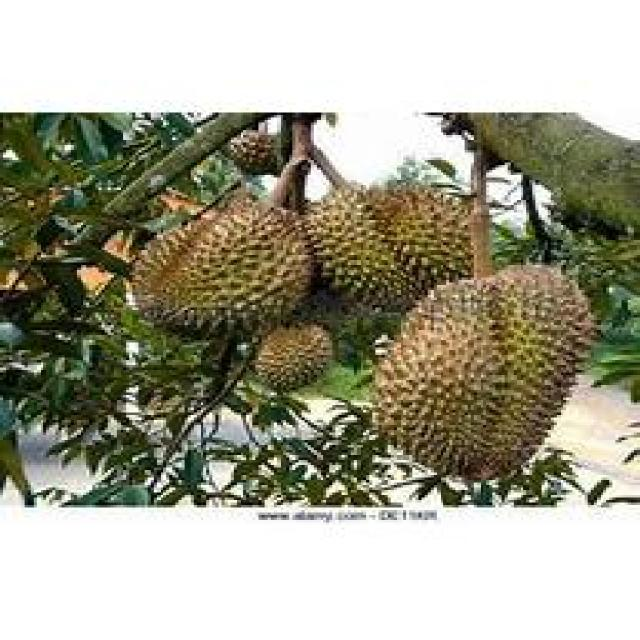fruit: (348, 235, 615, 493), (111, 172, 335, 468), (286, 142, 496, 338), (243, 310, 342, 402)
